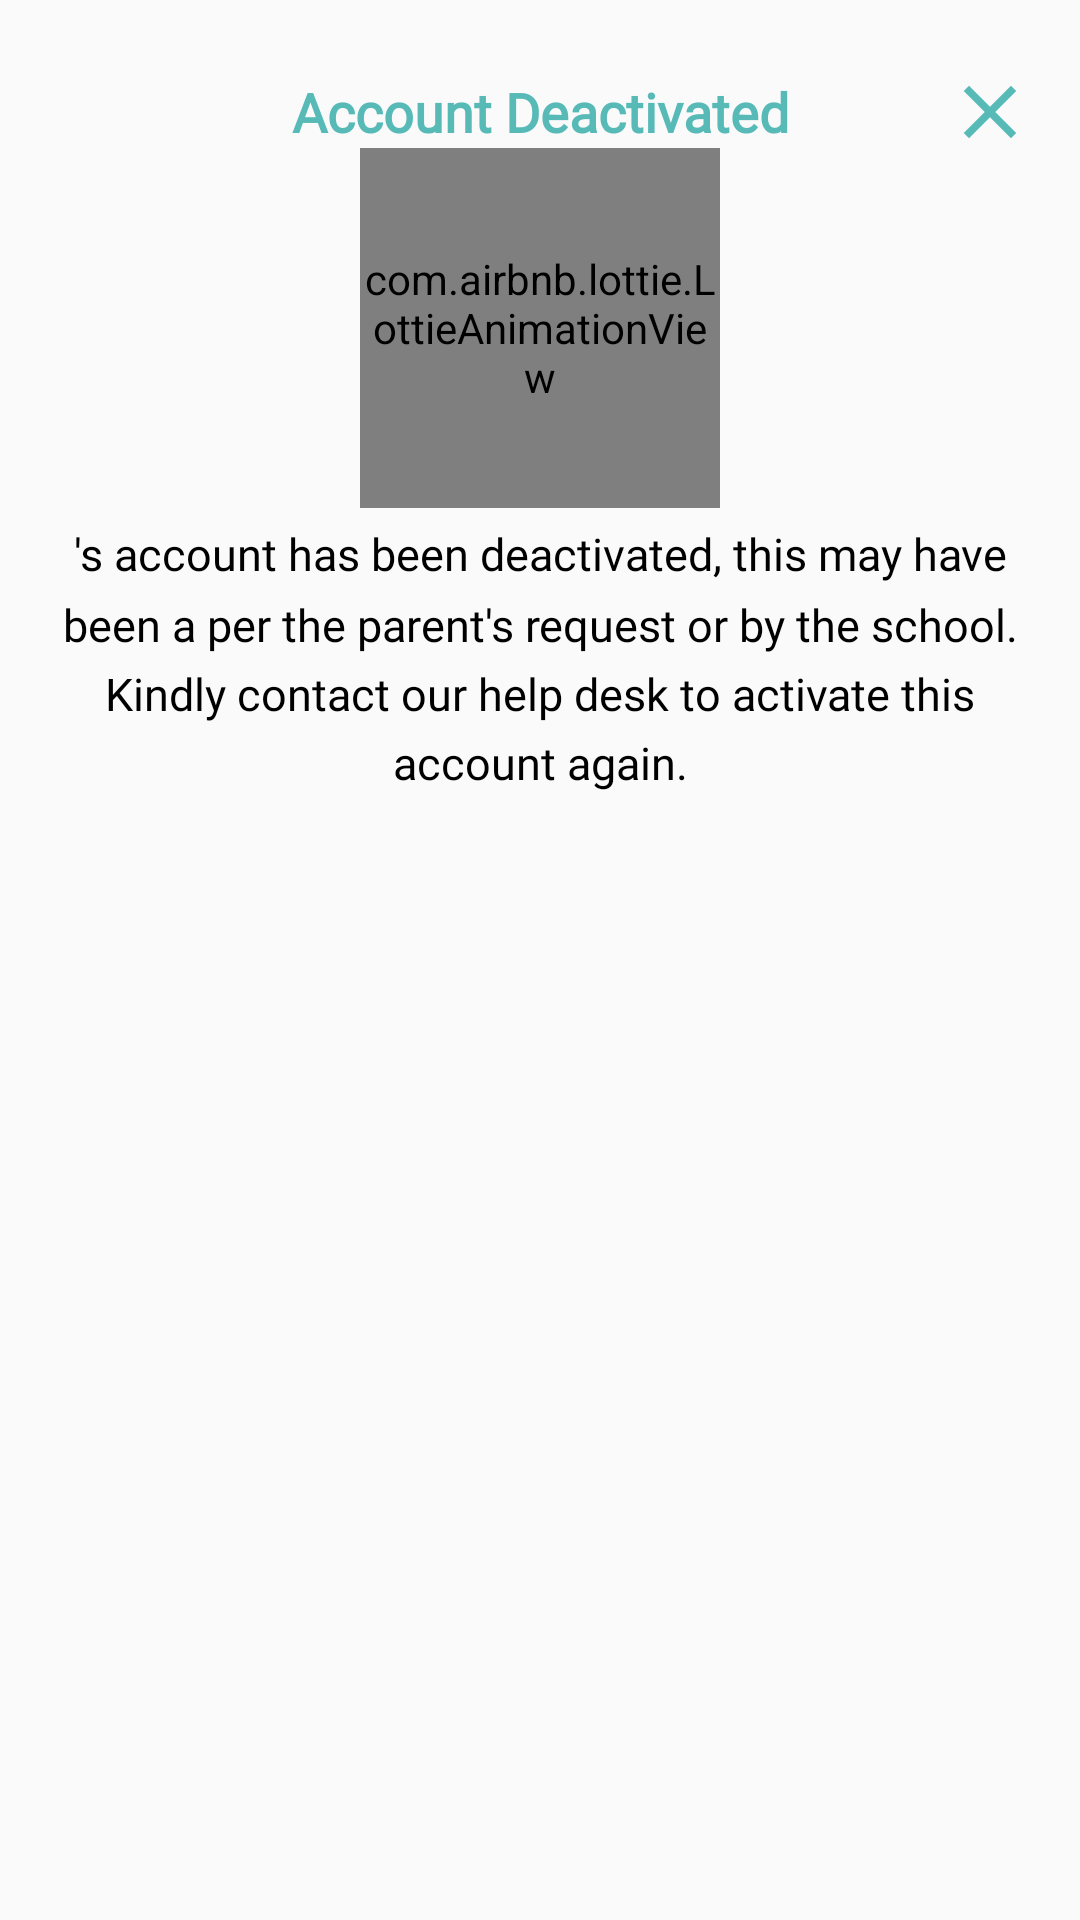

Icons on this 1080×1920 Android screen, each with the point to tap as point (x, y):
close: point (990, 112)
